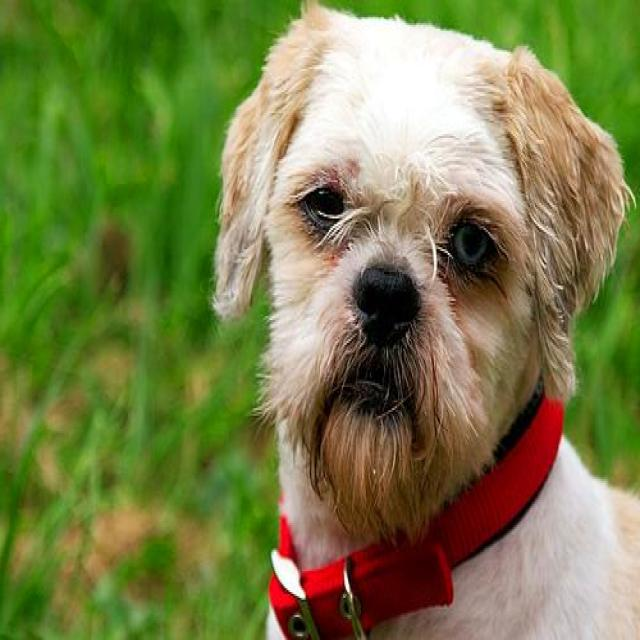shih_tzu: (206, 0, 638, 638)
